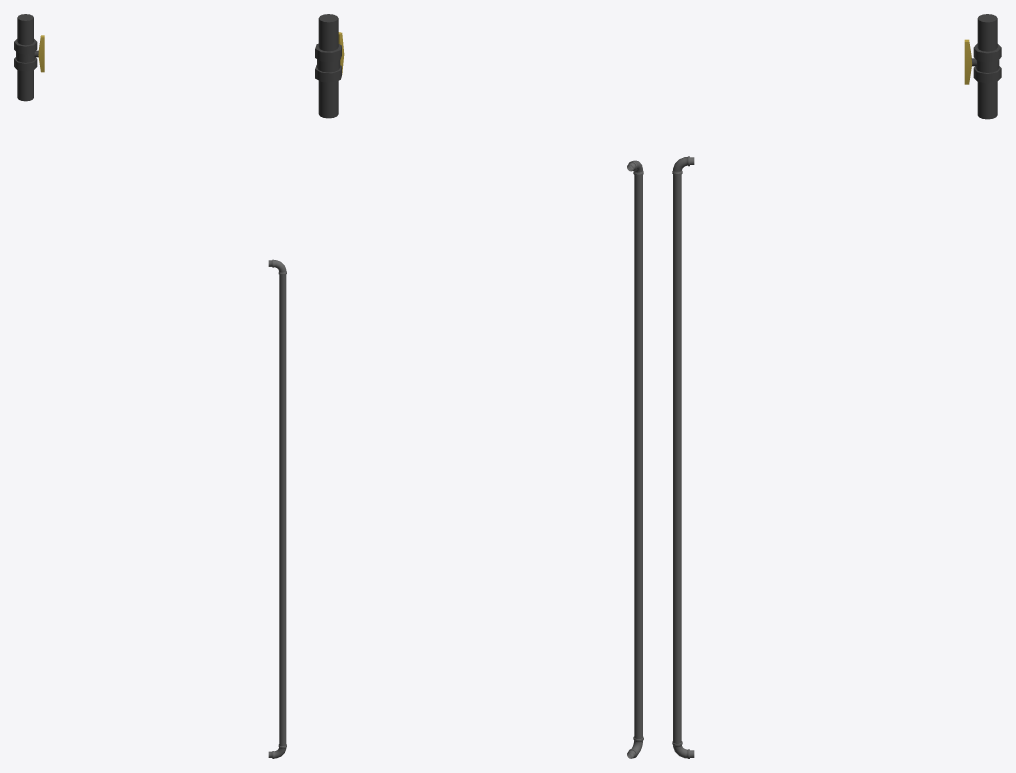
File: tank1_etc.FBX
The picture shows the model from 3 angles, left to right: view 1: azimuth 90°, elevation 25°; view 2: azimuth 150°, elevation 25°; view 3: azimuth 270°, elevation 25°; orthographic projection. The views are drawn at different scales.
Parts seen in each view (by area): view 1: Object028, Cylinder018; view 2: Object028, Cylinder018; view 3: Object028, Cylinder018.
Boxes of the visible parts, x1,y1,x2,y2 form: Object028: [279, 275, 286, 746]; Cylinder018: [14, 14, 44, 101]; Object028: [634, 175, 642, 738]; Cylinder018: [315, 14, 344, 118]; Object028: [673, 174, 681, 743]; Cylinder018: [964, 14, 1001, 119].
Bounding box in the file's own units: 67.04 × 300 × 110.
